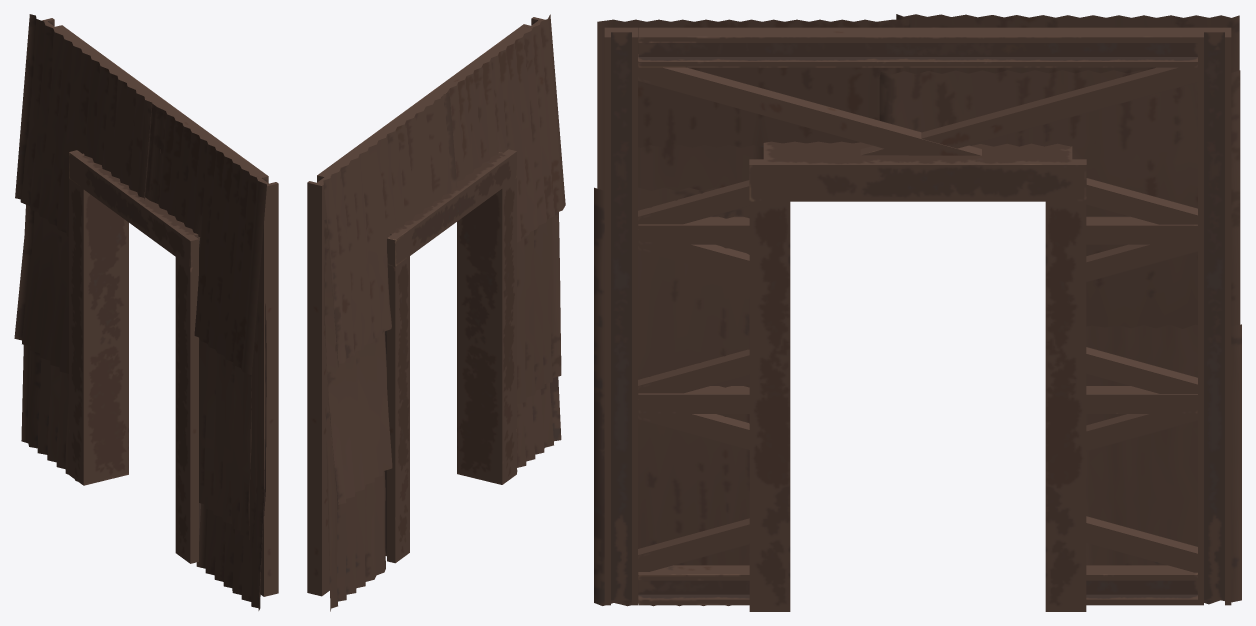
The model's file is SM_Polygonal_Metal_Doorframe.fbx.
The picture shows the model from 3 angles, left to right: view 1: azimuth 30°, elevation 25°; view 2: azimuth 150°, elevation 25°; view 3: azimuth 270°, elevation 25°; orthographic projection. The views are drawn at different scales.
Visible parts, largest first — view 1: SM_Polygonal_Metal_Doorframe_LOD0; view 2: SM_Polygonal_Metal_Doorframe_LOD0; view 3: SM_Polygonal_Metal_Doorframe_LOD0.
Boxes of the visible parts, x1=… form: SM_Polygonal_Metal_Doorframe_LOD0: x1=14, y1=14, x2=278, y2=610; SM_Polygonal_Metal_Doorframe_LOD0: x1=307, y1=14, x2=565, y2=611; SM_Polygonal_Metal_Doorframe_LOD0: x1=594, y1=14, x2=1241, y2=611.
Size of the model in its own units: 34.8 by 310 by 312.
Materials: 1 (1 with a texture image).
